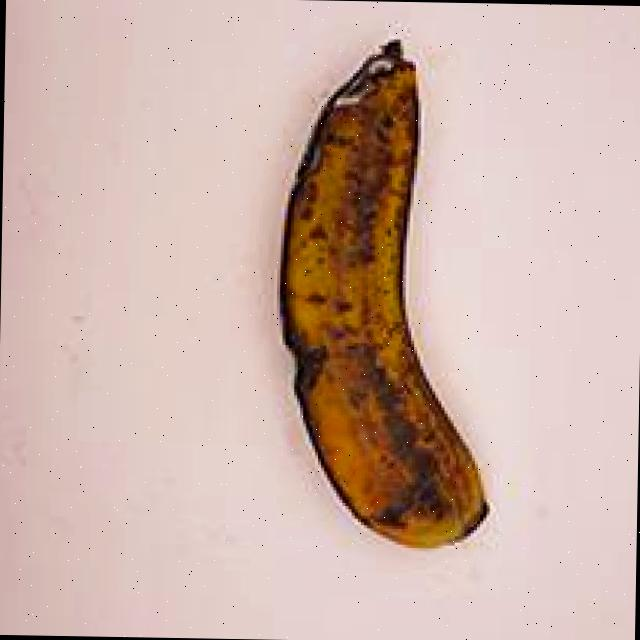Overripe: (202, 0, 529, 577)
